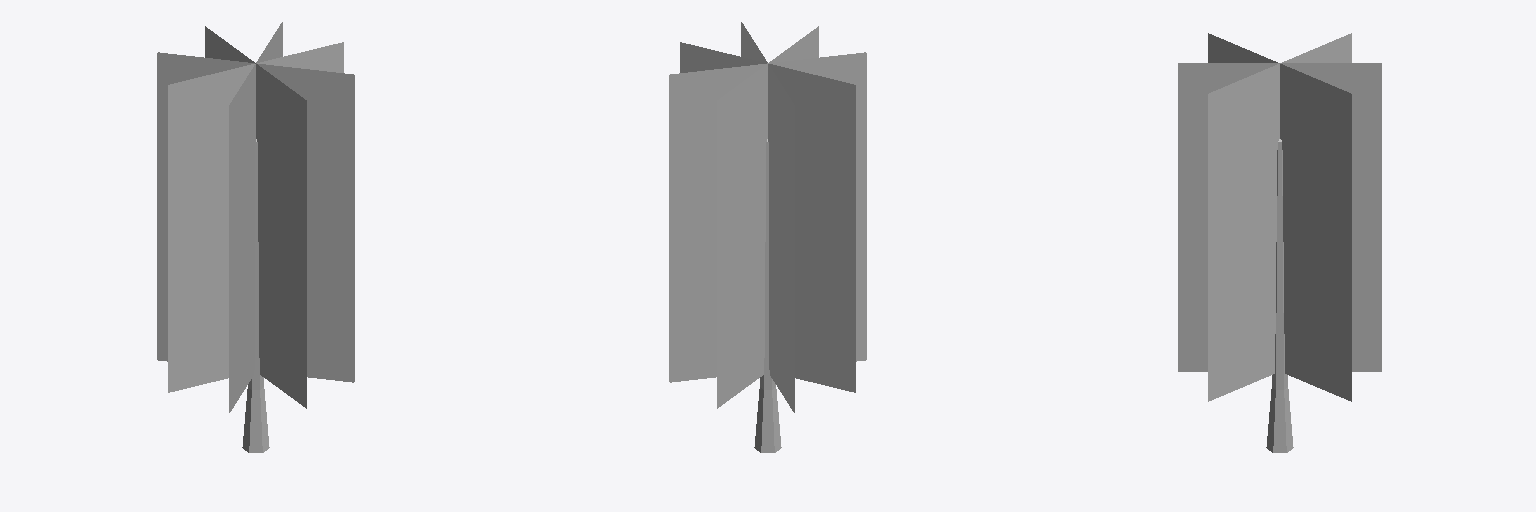
File: tree.obj
The picture shows the model from 3 angles: view 1: azimuth 30°, elevation 25°; view 2: azimuth 150°, elevation 25°; view 3: azimuth 270°, elevation 25°; orthographic projection.
Parts seen in each view (by area): view 1: tree01; view 2: tree01; view 3: tree01.
Boxes of the visible parts, <box> form: tree01: <box>157,22,354,452</box>; tree01: <box>669,22,866,452</box>; tree01: <box>1178,33,1381,452</box>.
Size of the model in its own units: 6 by 12.5 by 6.